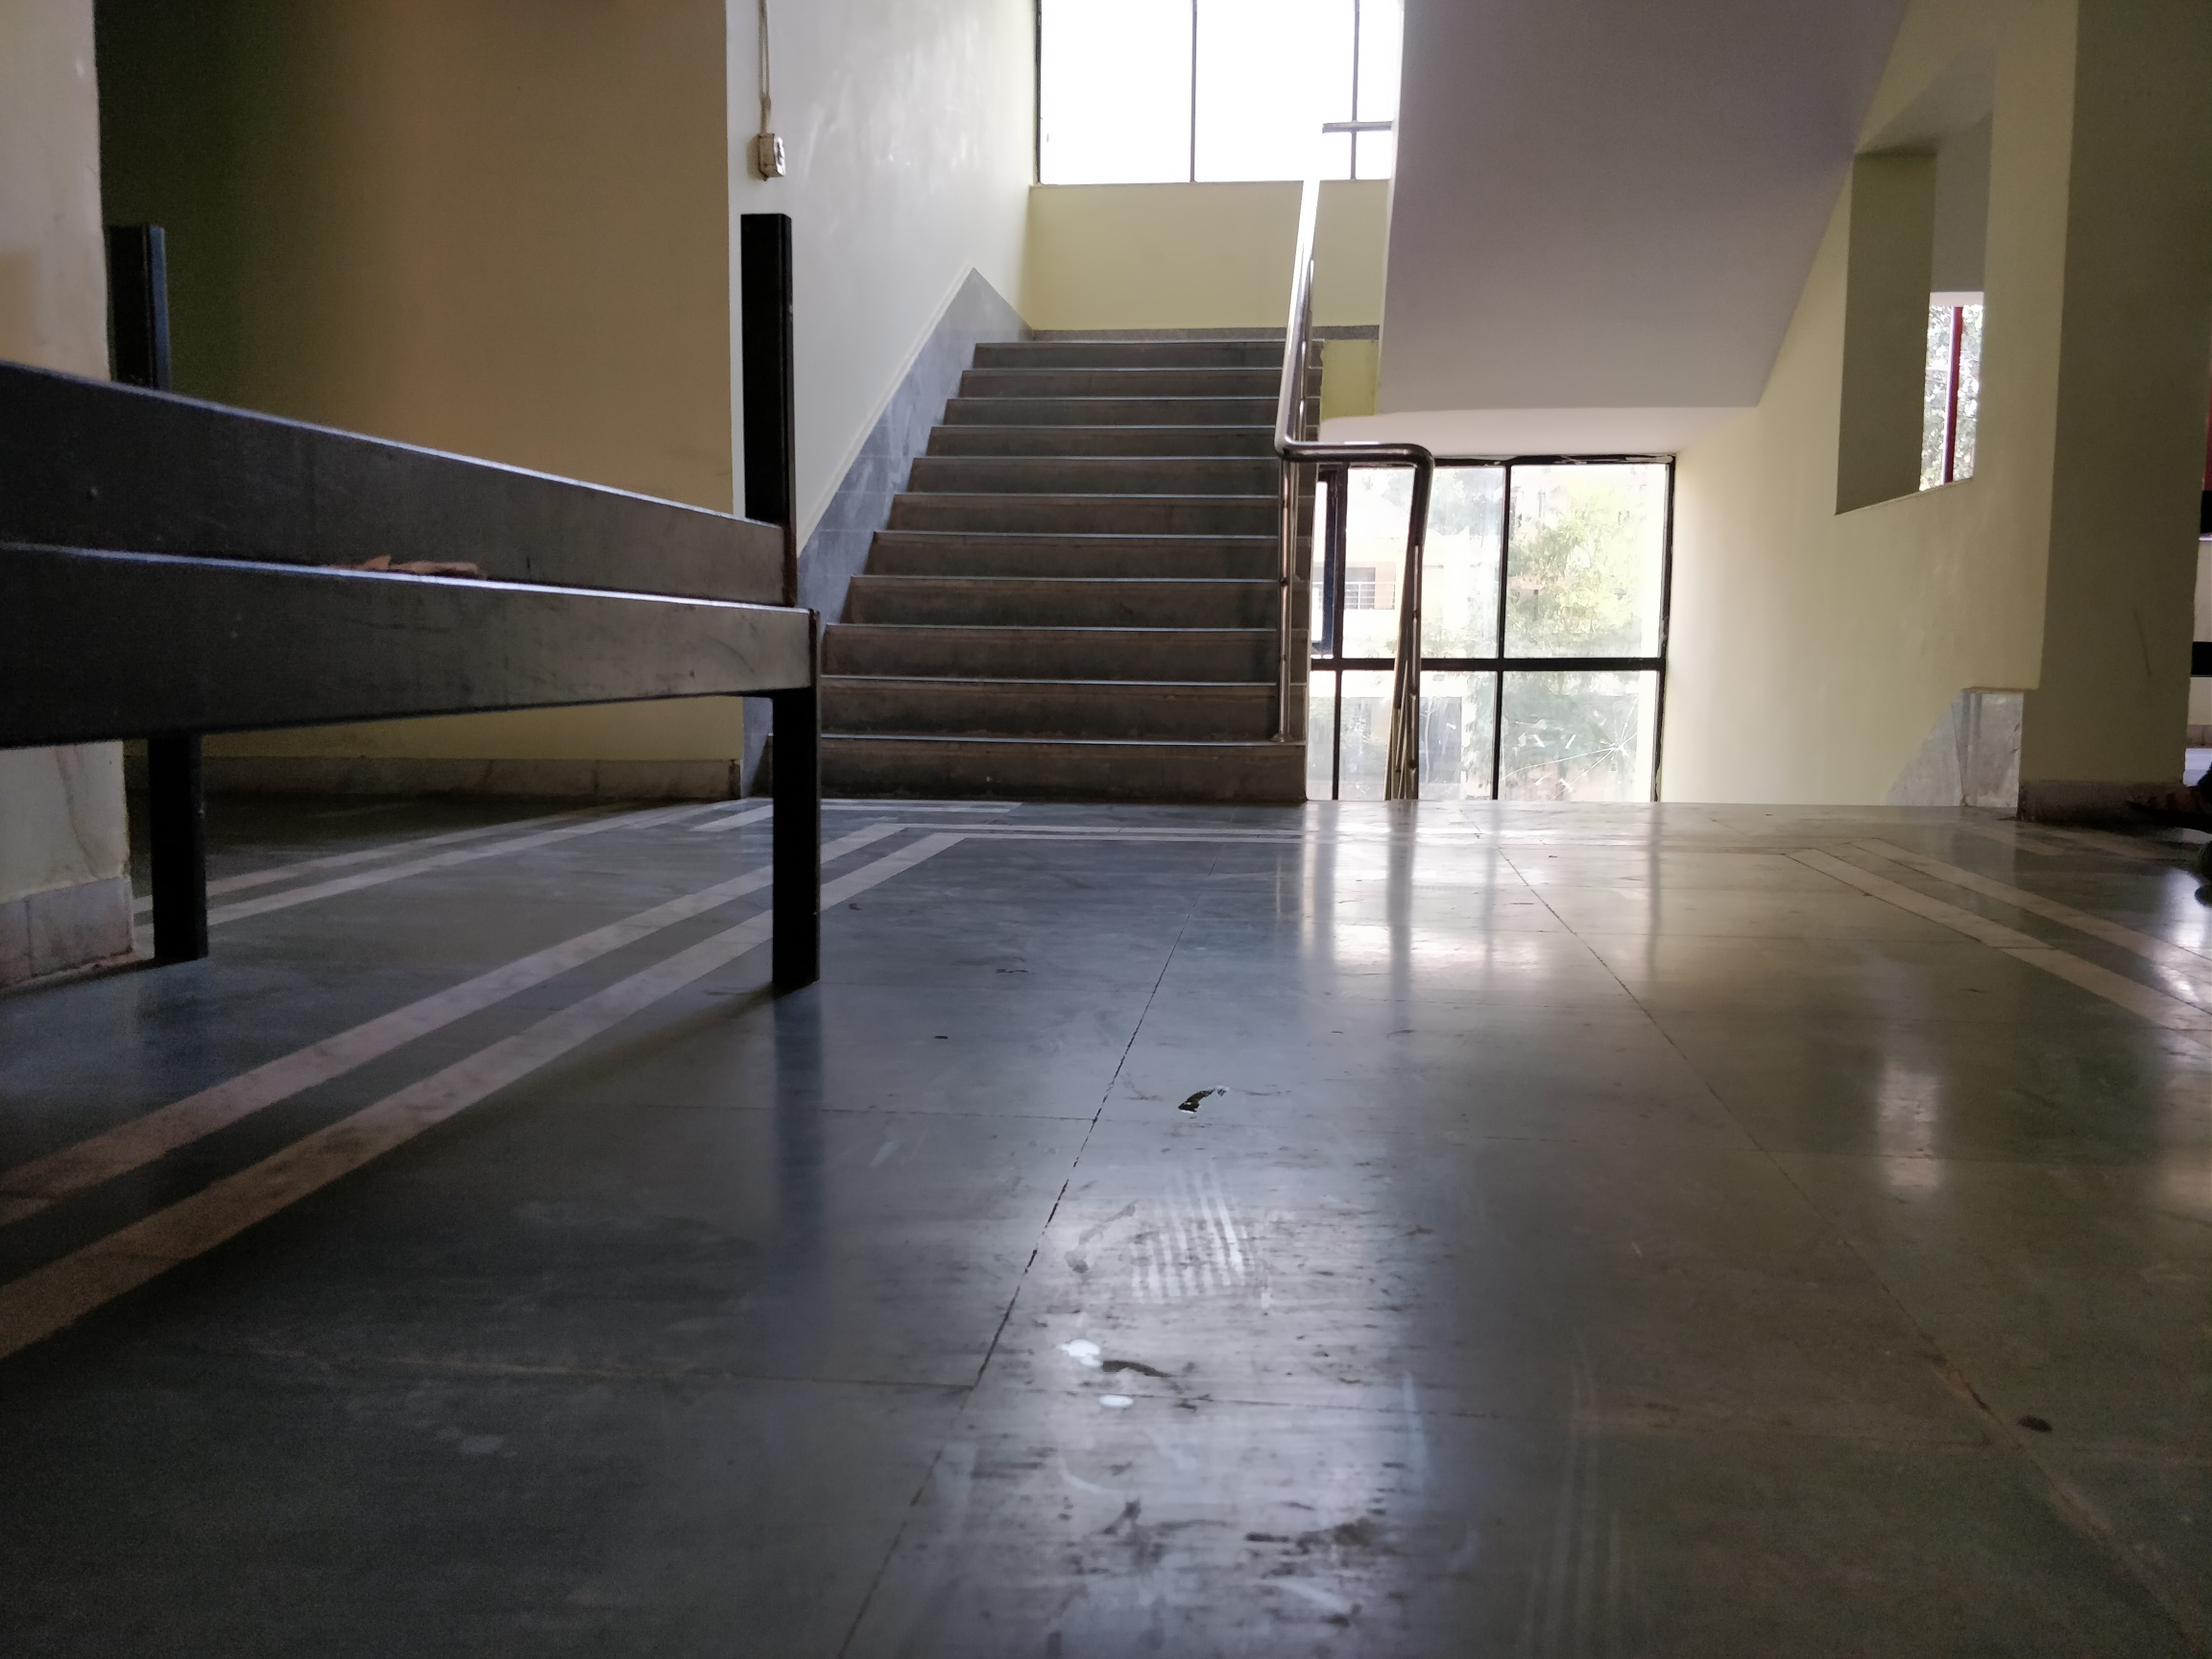stairs_up: (824, 338, 1320, 796)
